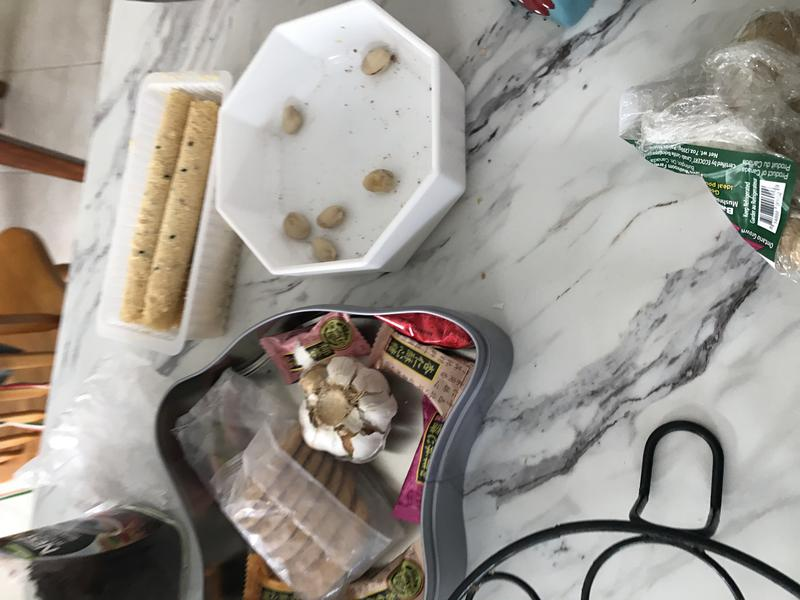garlic: (293, 350, 399, 470)
